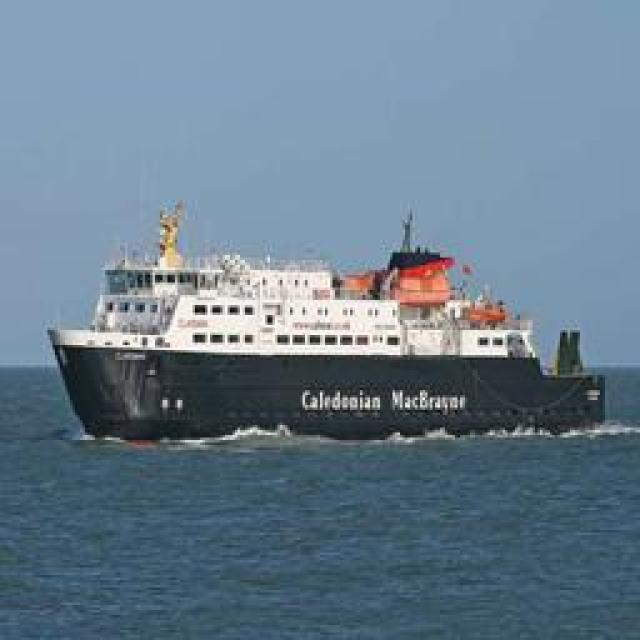ship2: (46, 202, 607, 447)
